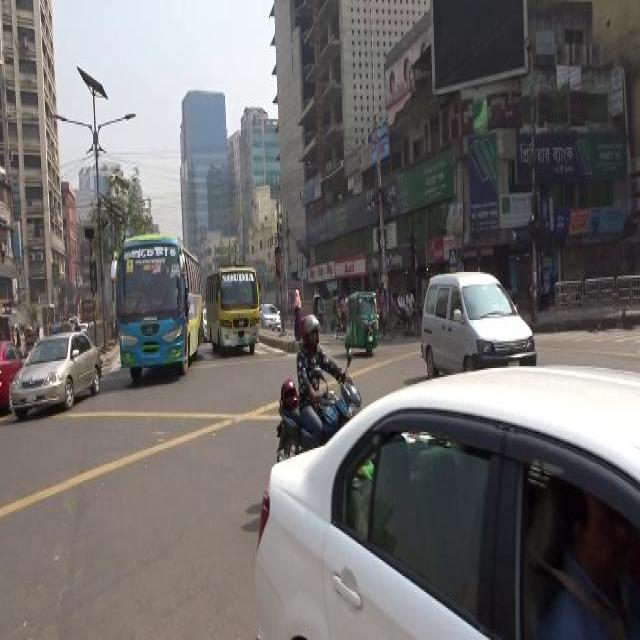bus: (114, 230, 204, 385), (205, 267, 261, 352)
car: (248, 360, 636, 636), (10, 327, 104, 416), (0, 335, 28, 419), (259, 300, 281, 332)
minivan: (418, 270, 534, 380)
motorbike: (272, 307, 362, 457)
rickshaw: (388, 288, 418, 338), (334, 290, 348, 338), (312, 290, 326, 329)
three wheelers -CNG-: (344, 286, 380, 358)
